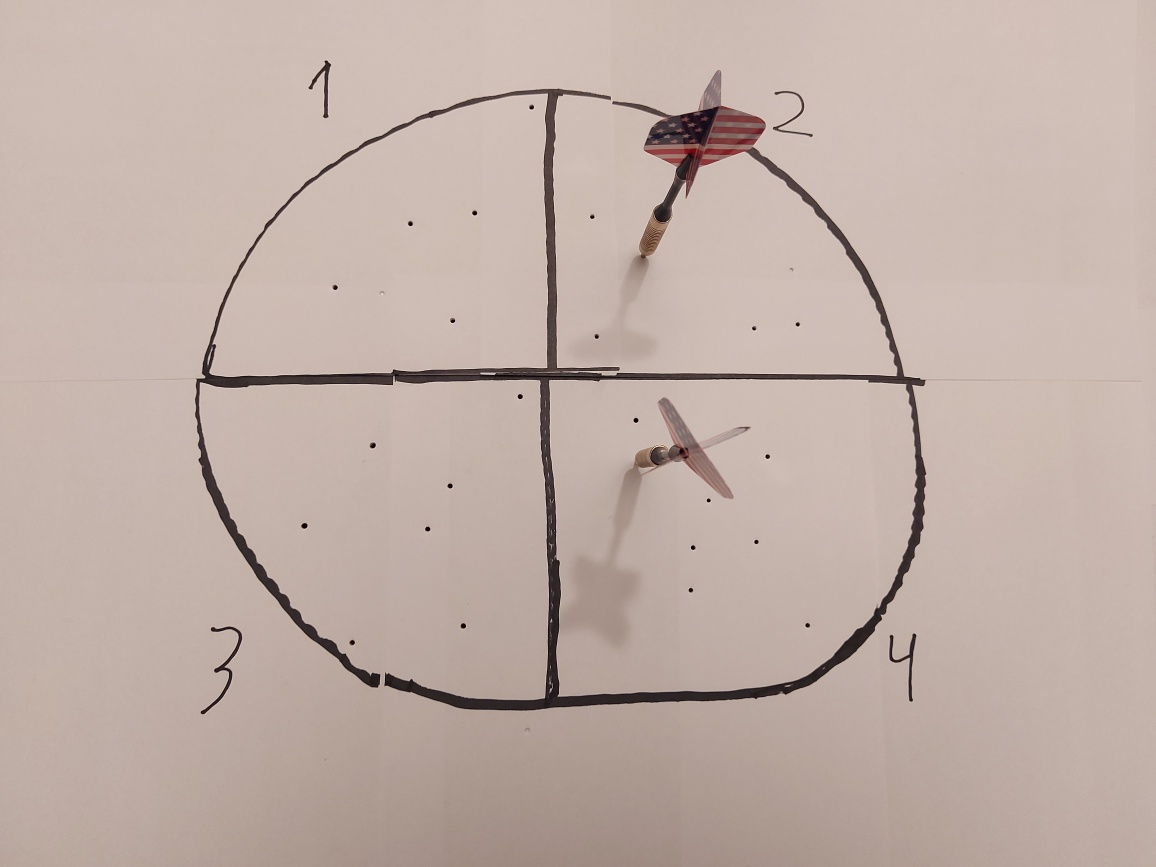Dart: (625, 65, 770, 278), (627, 388, 755, 514)
